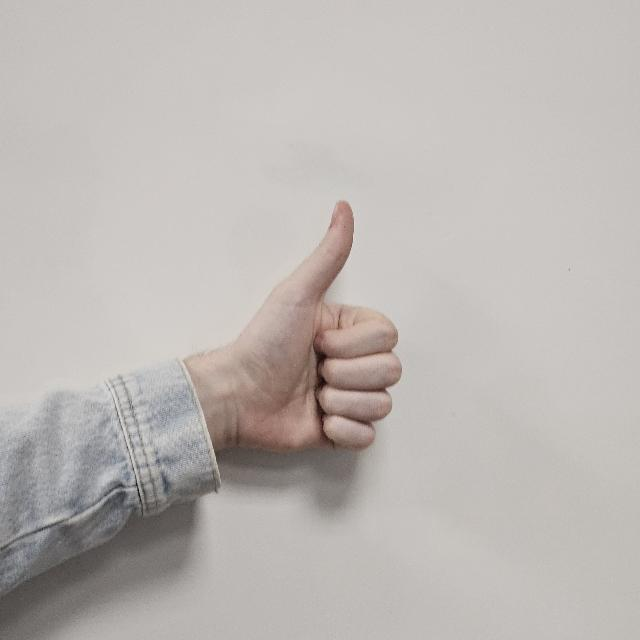Start: (180, 199, 400, 463)
